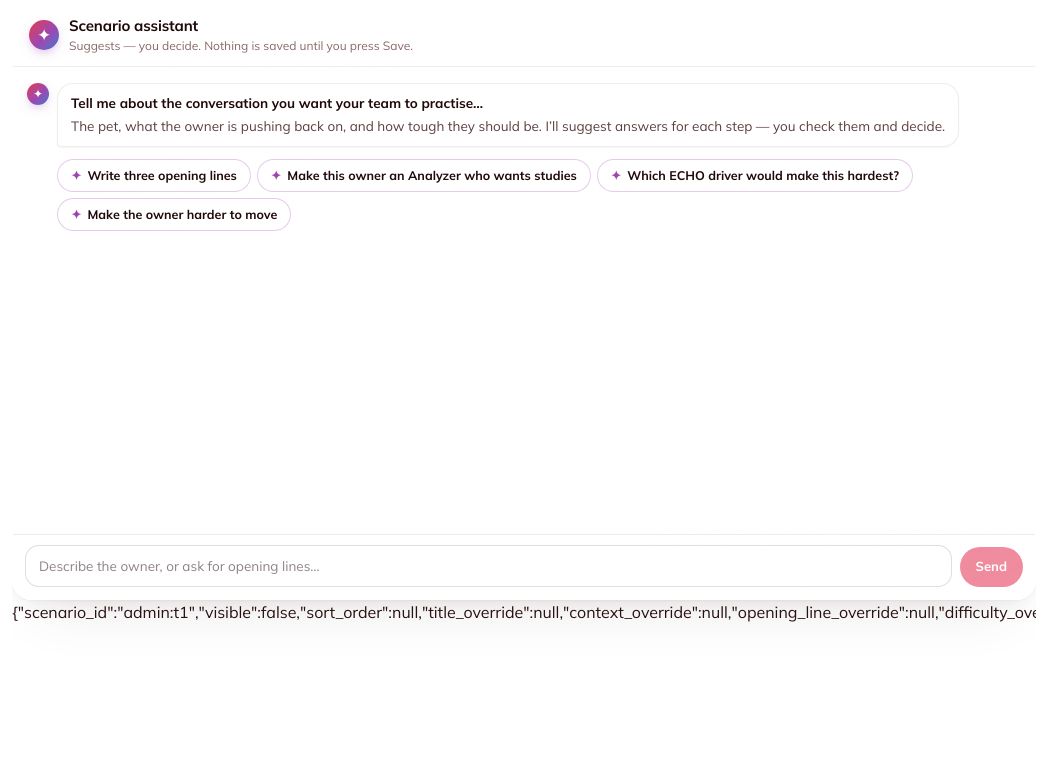
Test: CopilotPanel › picking an offered option fills that field
This screenshot has width=1048, height=768.
In the text box named "Message the scenario assistant": {"x": 488, "y": 566} [25, 545, 952, 587], type "Write three opening lines"
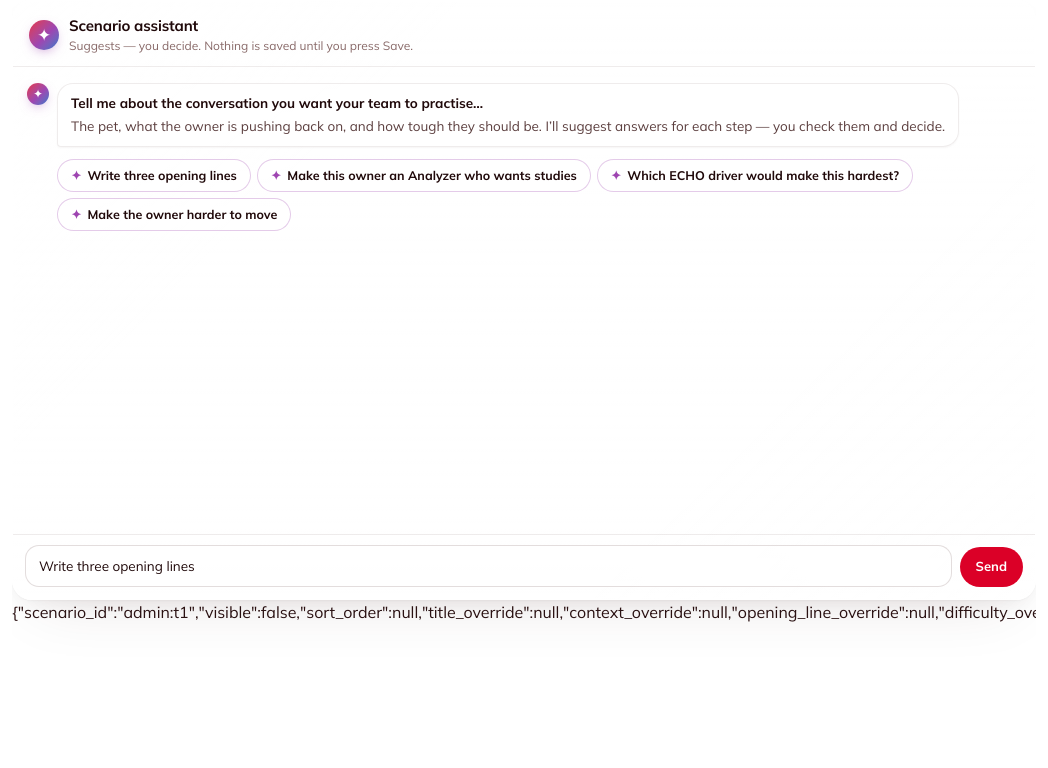
Press Enter in the text box named "Message the scenario assistant", box [25, 545, 952, 587]
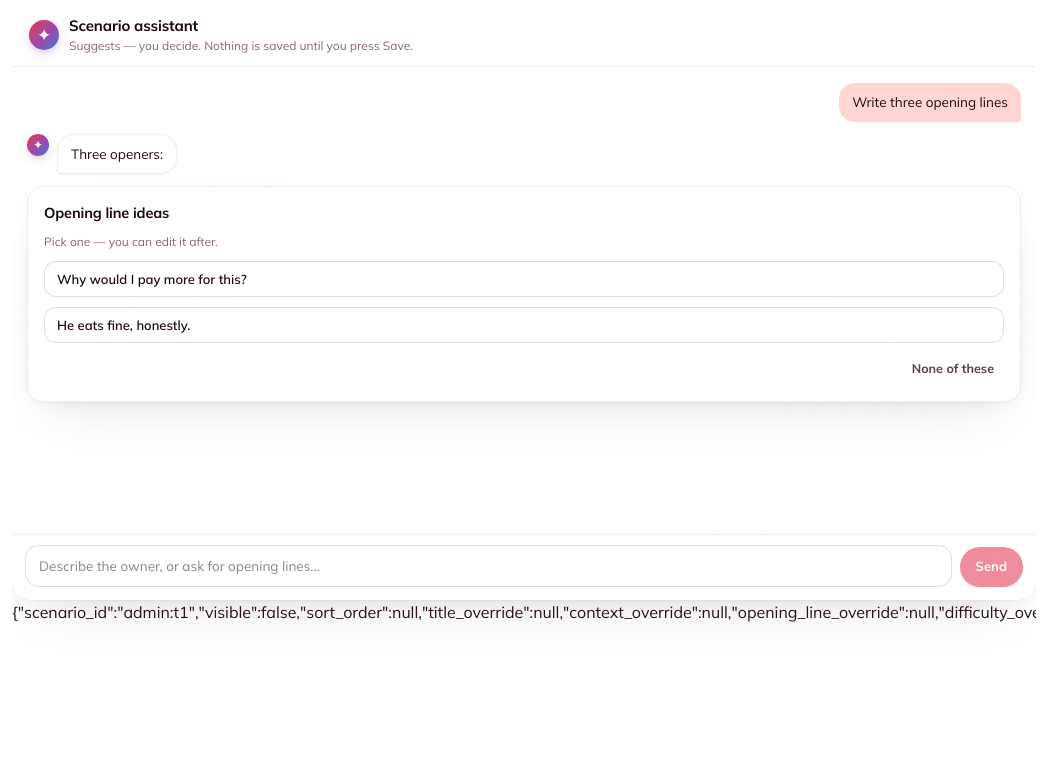
Click the button "He eats fine, honestly.": {"x": 124, "y": 325} [44, 307, 1004, 343]
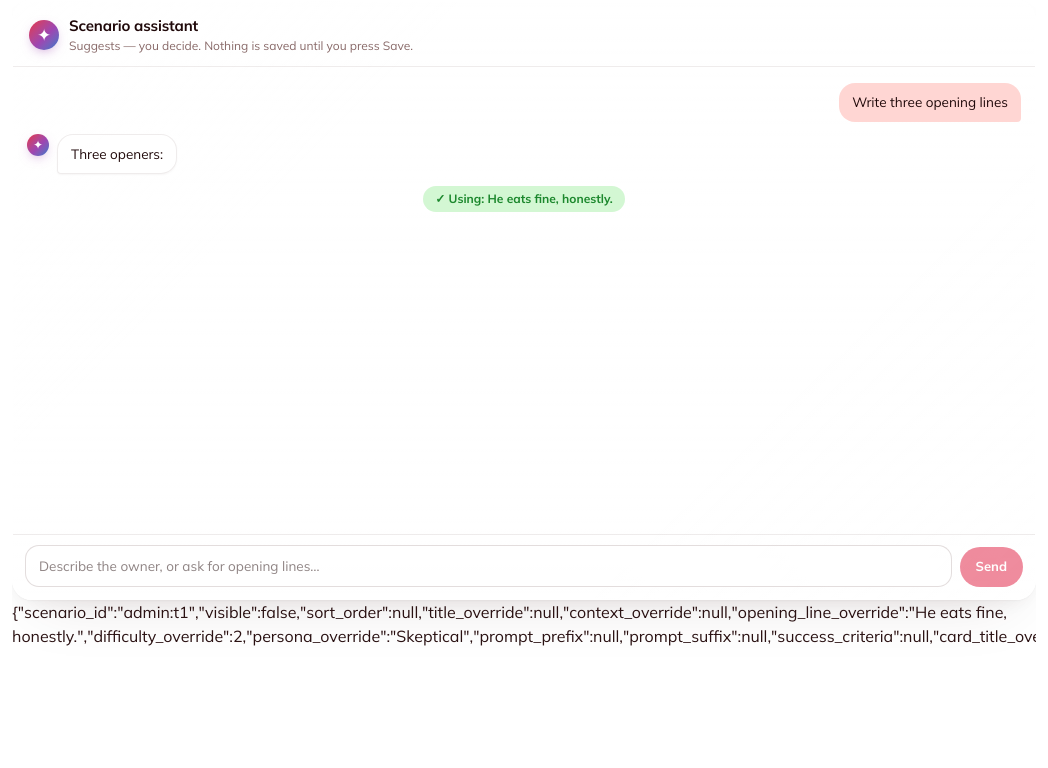
Now the text "✓ Using: He eats fine, honestly." is shown, box [423, 186, 625, 212]
